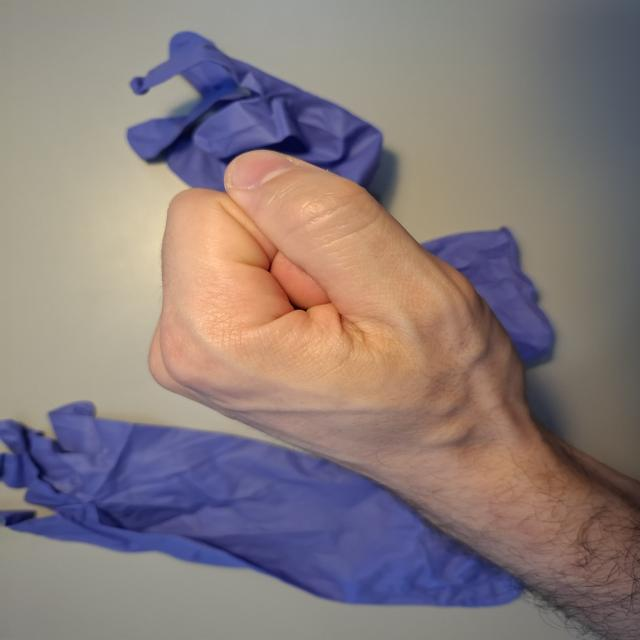glove_off: (142, 146, 582, 524)
